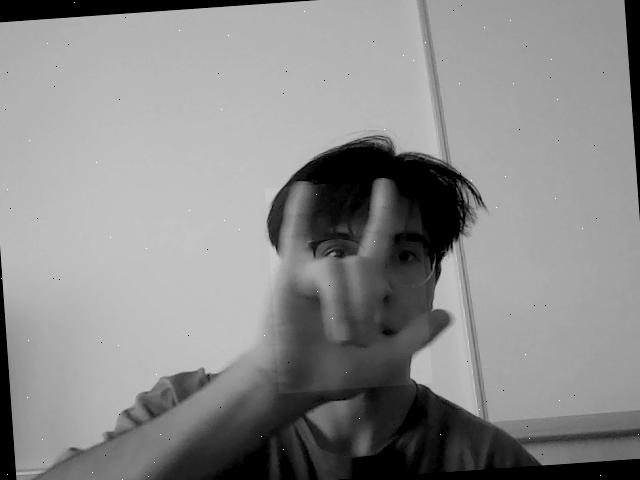I_Love_You: (264, 176, 432, 394)
